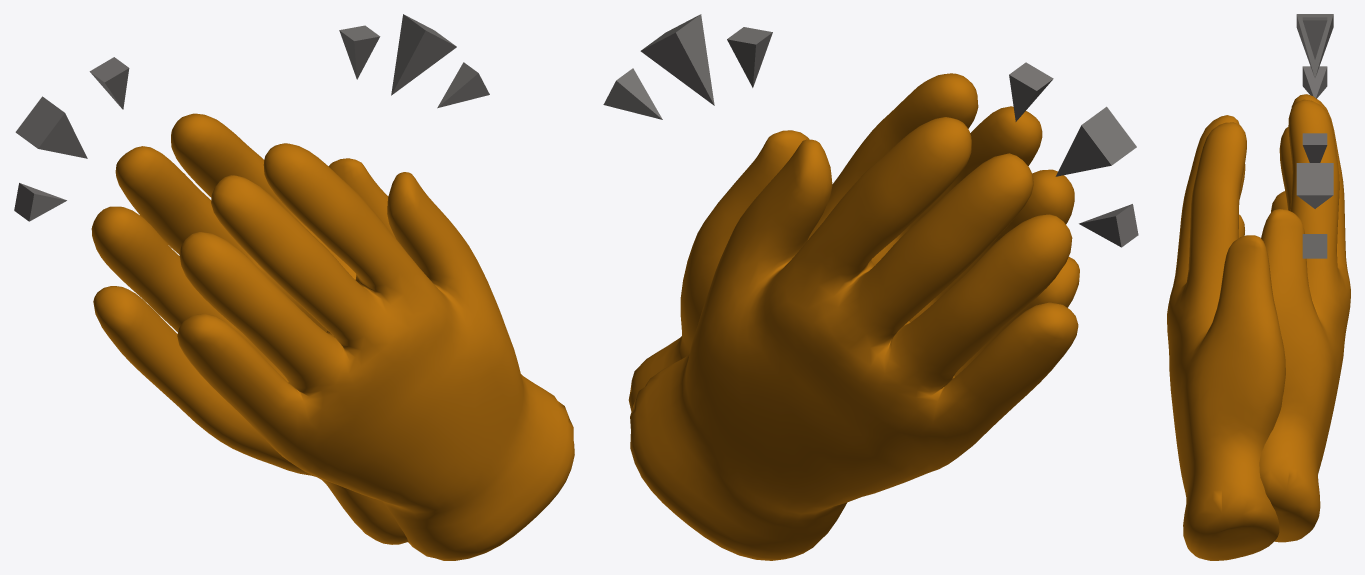
File: CLAPING.FBX
3 renders of one model, left to right at view 1: azimuth 30°, elevation 25°; view 2: azimuth 150°, elevation 25°; view 3: azimuth 270°, elevation 25°, orthographic. The views are drawn at different scales.
Parts seen in each view (by area): view 1: Group17150, Group17149, Pyramid004, Pyramid001, Pyramid005, Pyramid006, Pyramid002, Pyramid003; view 2: Group17149, Group17150, Pyramid004, Pyramid001, Pyramid006, Pyramid005, Pyramid002, Pyramid003; view 3: Group17150, Group17149, Pyramid004, Pyramid001, Pyramid002, Pyramid006, Pyramid005, Pyramid003.
Boxes of the visible parts, left/top/right/bottom form: Group17150: left=177, top=143, right=574, bottom=560; Group17149: left=91, top=113, right=408, bottom=544; Pyramid004: left=391, top=14, right=456, bottom=95; Pyramid001: left=15, top=96, right=87, bottom=158; Pyramid005: left=339, top=25, right=380, bottom=79; Pyramid006: left=437, top=62, right=489, bottom=108; Pyramid002: left=14, top=183, right=66, bottom=221; Pyramid003: left=89, top=57, right=129, bottom=109; Group17149: left=630, top=117, right=1078, bottom=560; Group17150: left=628, top=73, right=1079, bottom=411; Pyramid004: left=640, top=14, right=714, bottom=105; Pyramid001: left=1055, top=106, right=1136, bottom=176; Pyramid006: left=603, top=68, right=662, bottom=119; Pyramid005: left=727, top=27, right=772, bottom=87; Pyramid002: left=1079, top=204, right=1138, bottom=247; Pyramid003: left=1009, top=62, right=1053, bottom=121; Group17150: left=1167, top=115, right=1285, bottom=560; Group17149: left=1259, top=94, right=1350, bottom=542; Pyramid004: left=1296, top=163, right=1333, bottom=208; Pyramid001: left=1296, top=14, right=1333, bottom=78; Pyramid002: left=1302, top=66, right=1327, bottom=98; Pyramid006: left=1302, top=234, right=1327, bottom=258; Pyramid005: left=1302, top=133, right=1327, bottom=162; Pyramid003: left=1302, top=17, right=1327, bottom=59.
Size of the model in its own units: 15.36 by 15.61 by 6.07.
